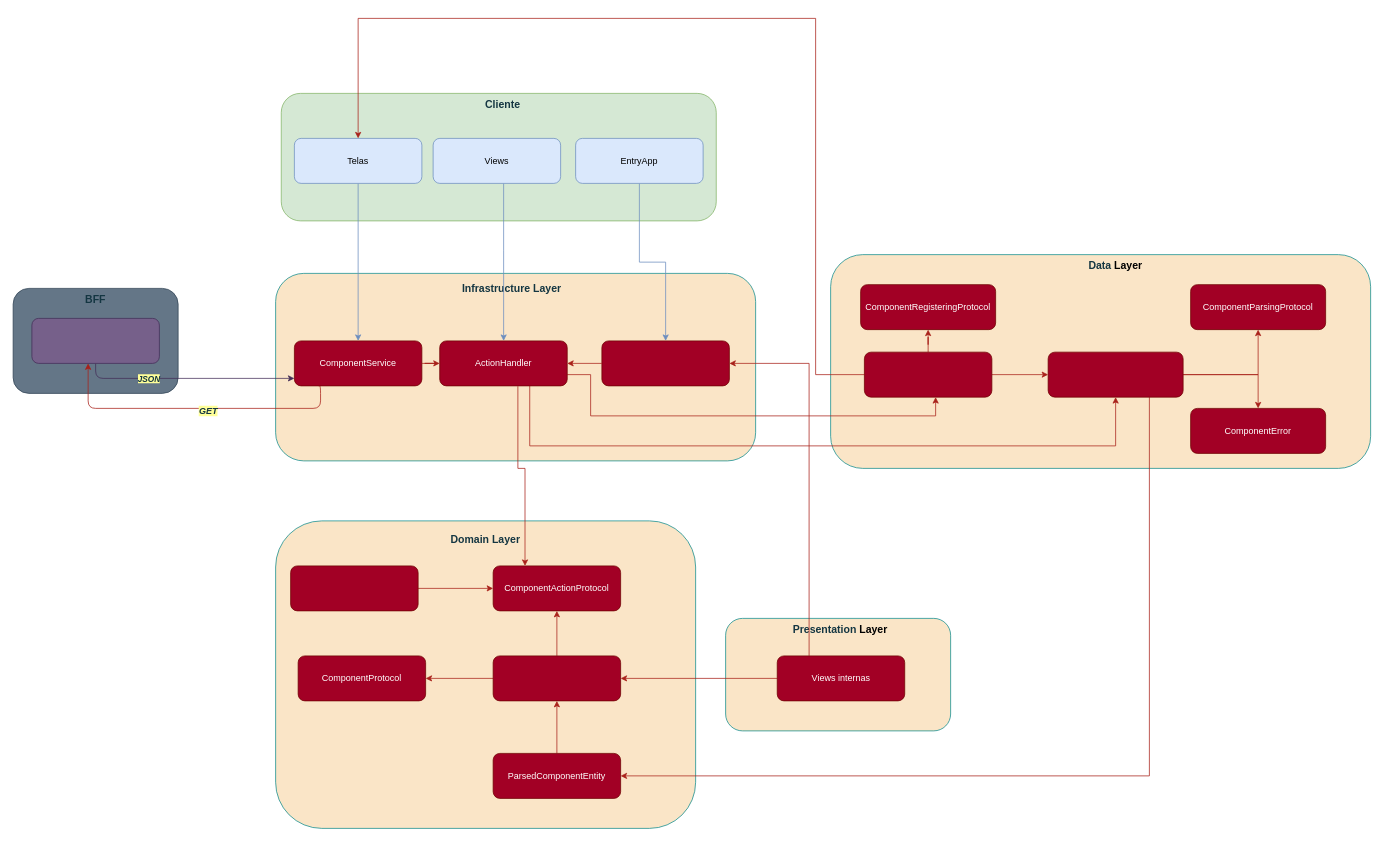
The diagram is 1384 pixels wide and 842 high, and some of its shapes have lost their labels. Each missing label, with the centre of its shape:
ComponentActionModel: the point at 354,588
ComponentParser: the point at 1115,374
ComponentRegistry: the point at 928,374
ComponentRegistryBuilder: the point at 665,363
JSON com componentes: the point at 95,340
Models: the point at 556,678
